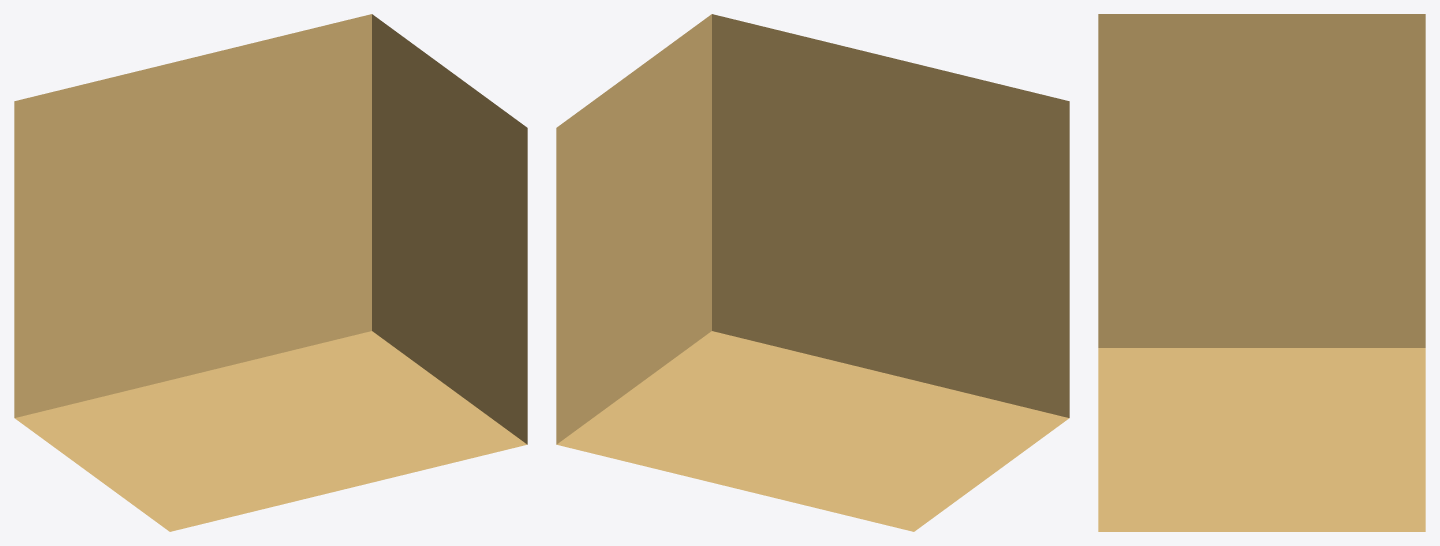
Rendered from effects-quantum-garden-023.glb.
The picture shows the model from 3 angles, left to right: view 1: azimuth 30°, elevation 25°; view 2: azimuth 150°, elevation 25°; view 3: azimuth 270°, elevation 25°; orthographic projection. The views are drawn at different scales.
Visible parts, largest first — view 1: Quantum Garden Effects; view 2: Quantum Garden Effects; view 3: Quantum Garden Effects.
Boxes of the visible parts, x1=… form: Quantum Garden Effects: x1=14, y1=14, x2=527, y2=531; Quantum Garden Effects: x1=556, y1=14, x2=1069, y2=531; Quantum Garden Effects: x1=1098, y1=14, x2=1425, y2=531.
Bounding box in the file's own units: 1.7 × 1.44 × 1.28.
